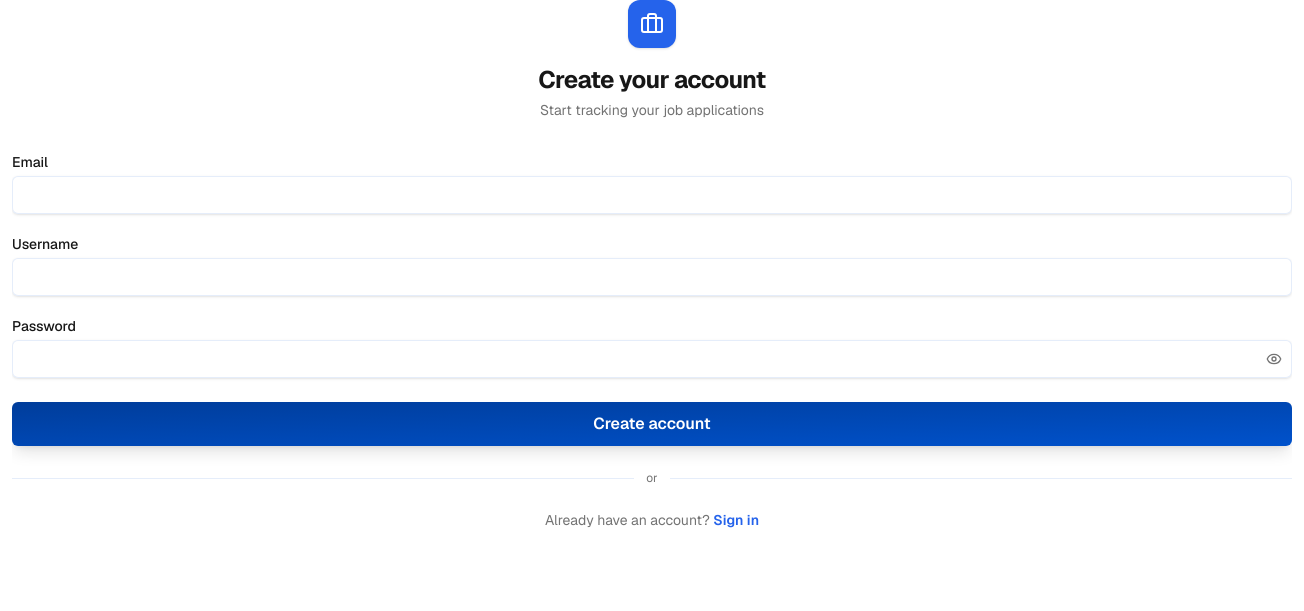
RegisterPage › shows fallback error message for unexpected failures
This screenshot has width=1304, height=611.
Type "test@test.com" into the field labelled "Email". click: {"x": 652, "y": 195}
box: 12,176 -> 1292,214
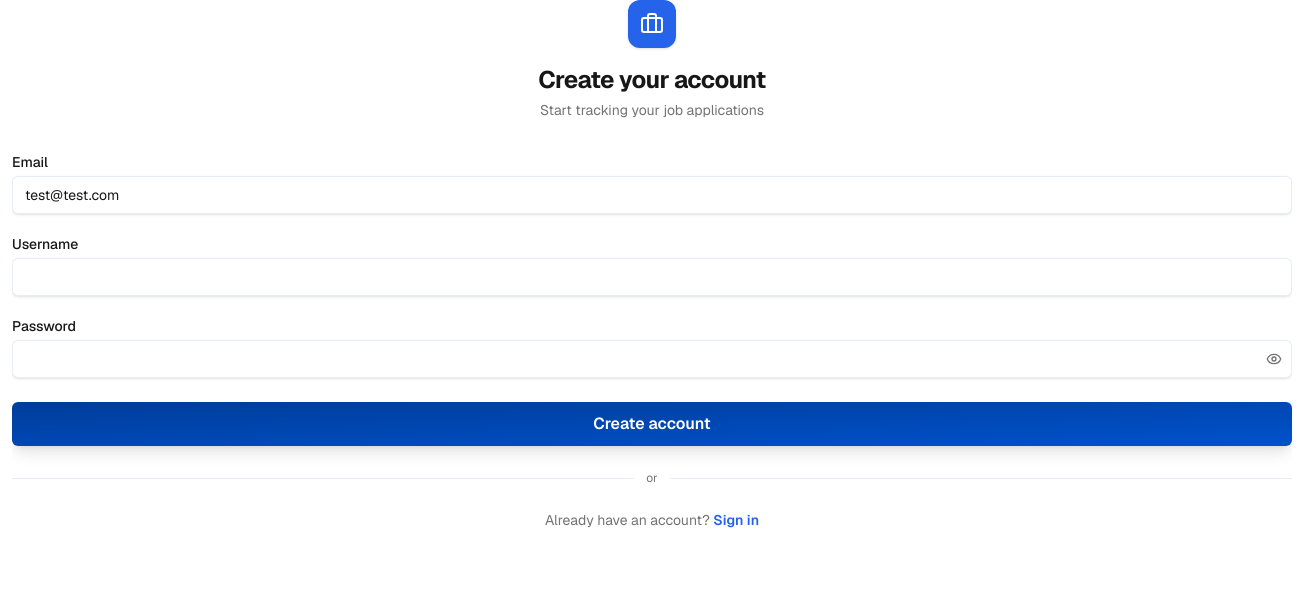
Type "testuser" into the field labelled "Username". click: {"x": 652, "y": 277}
box: 12,258 -> 1292,296
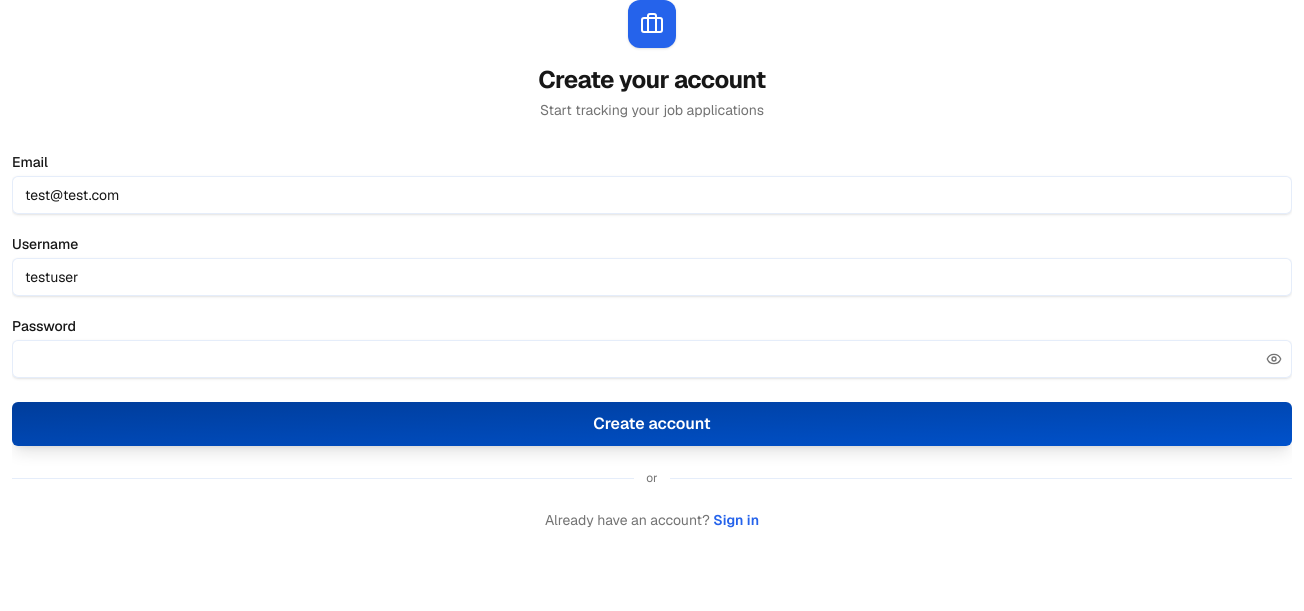
Type "password123" into the password field labelled "Password". click: {"x": 652, "y": 359}
box: 12,340 -> 1292,378
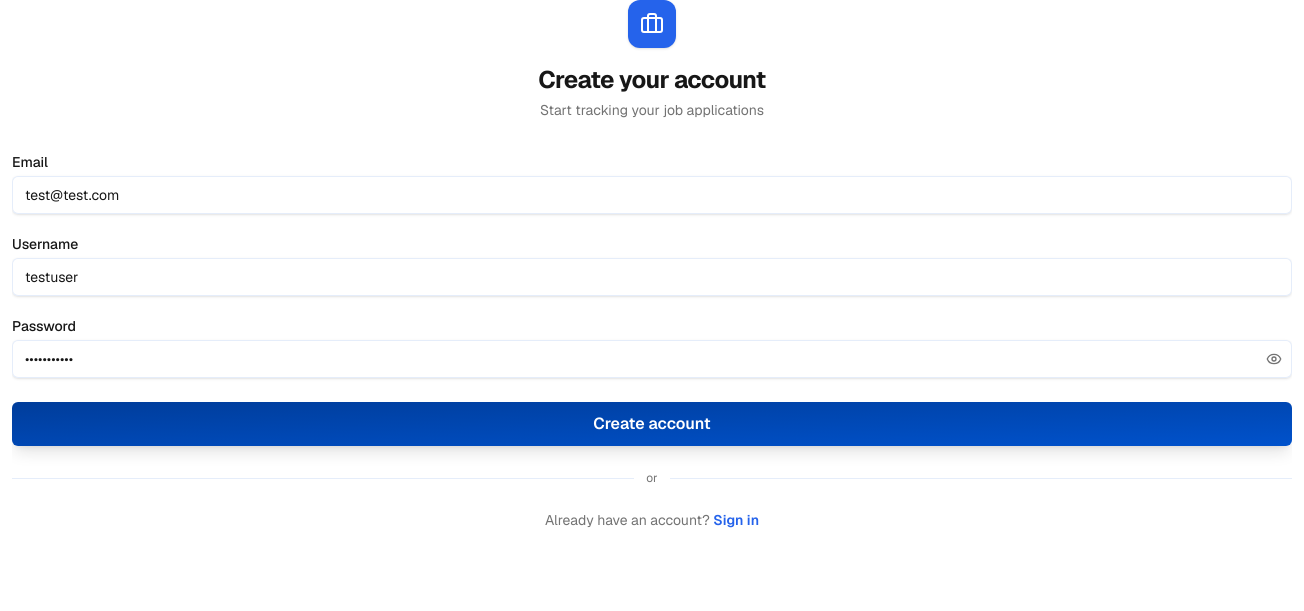
Click the button "Create account". click: {"x": 652, "y": 424}
box: 12,402 -> 1292,446
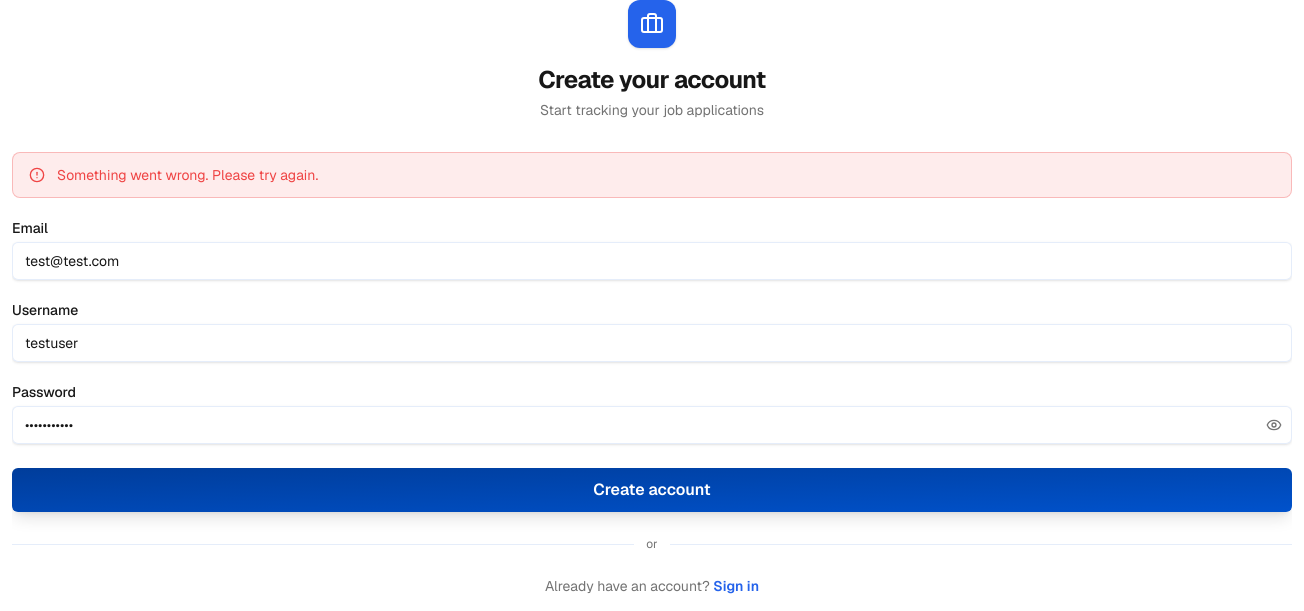
Expected: the text "Something went wrong. Please try again." is shown, 12,152 -> 1292,198
